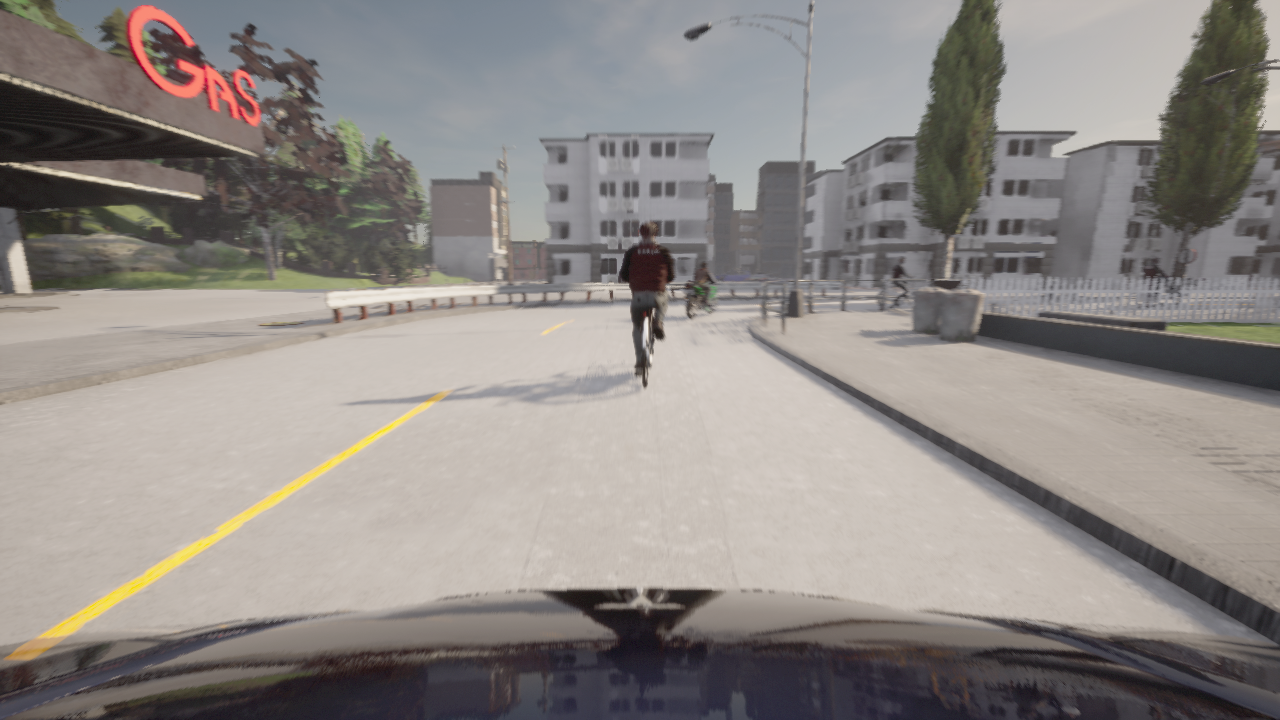cyclist: (0, 588, 1279, 719), (683, 277, 724, 319), (635, 310, 653, 387), (877, 281, 919, 308), (1131, 285, 1178, 307), (714, 270, 750, 281), (746, 272, 778, 281), (762, 278, 766, 279)
